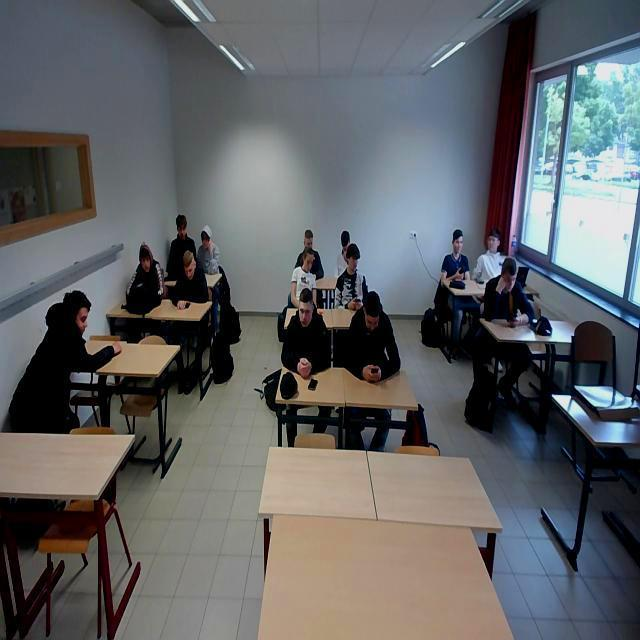Looking away: (298, 297, 313, 326), (487, 230, 502, 256), (347, 244, 361, 271), (303, 248, 314, 275)
Looking forward: (140, 242, 153, 277), (177, 214, 188, 237)
Phone use: (344, 292, 401, 385), (484, 254, 536, 324), (438, 227, 473, 287), (175, 250, 208, 308)
Turning around: (29, 289, 119, 389)
